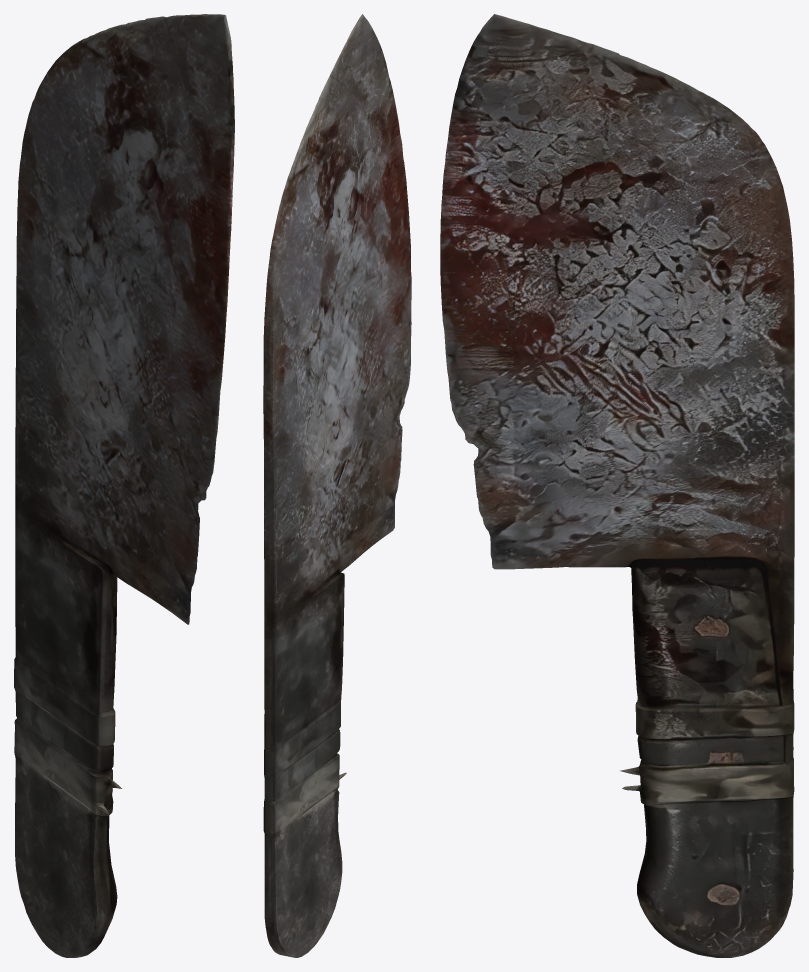
Rendered from machete.glb.
3 views of the same model, side by side, from view 1: azimuth 30°, elevation 25°; view 2: azimuth 150°, elevation 25°; view 3: azimuth 270°, elevation 25° (orthographic). The views are drawn at different scales.
Parts seen in each view (by area): view 1: model; view 2: model; view 3: model.
Part boxes in pixels (x1=…): model: x1=14, y1=14, x2=234, y2=957; model: x1=263, y1=14, x2=411, y2=957; model: x1=440, y1=14, x2=794, y2=957.
Bounding box in the file's own units: 0.0407 × 0.72 × 0.2402.
1 material, 1 textured.
